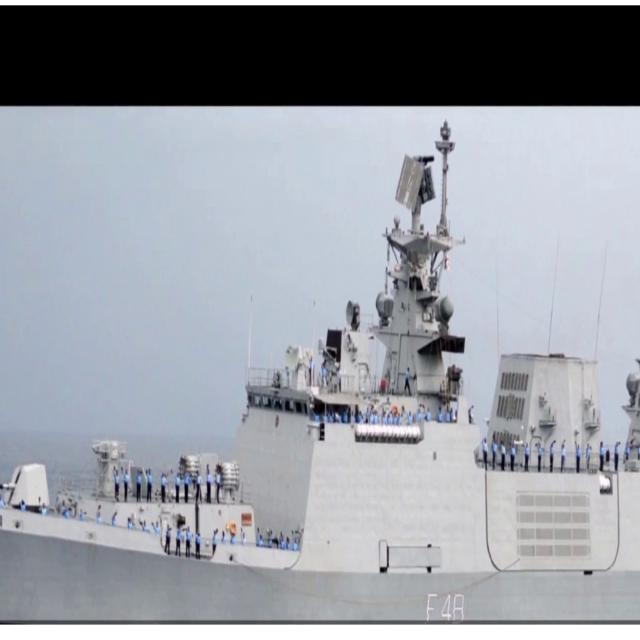OCR: (414, 585, 467, 622)
